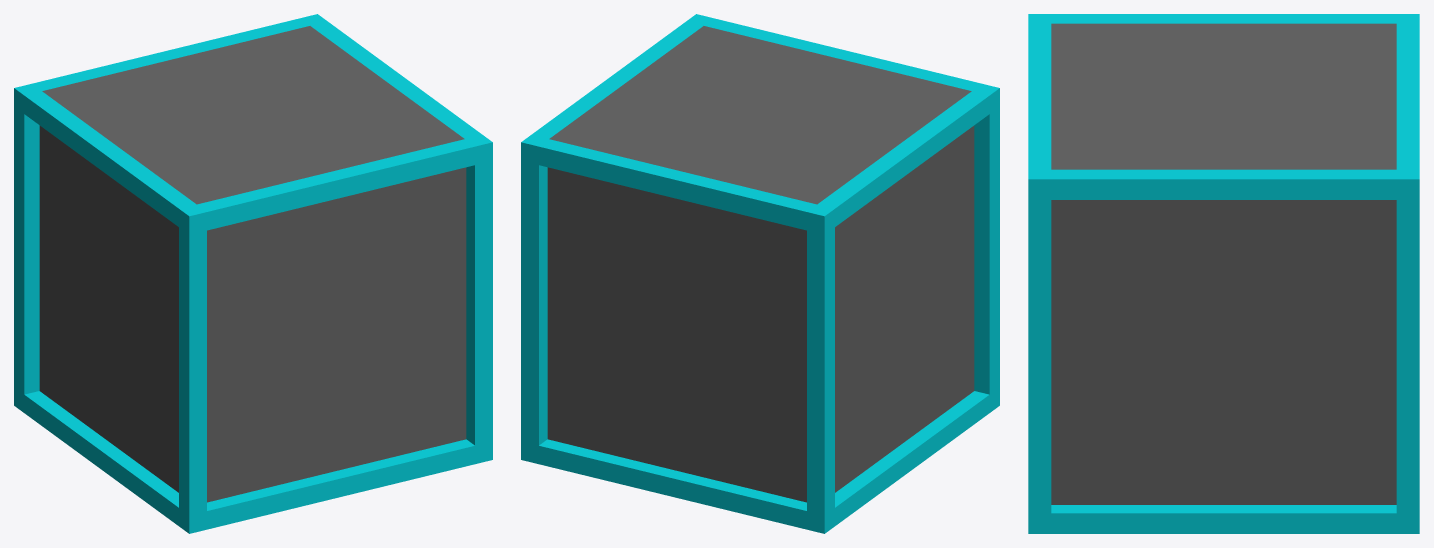
Rendered from Goal_Block.fbx.
3 views of the same model, side by side, from view 1: azimuth 30°, elevation 25°; view 2: azimuth 150°, elevation 25°; view 3: azimuth 270°, elevation 25° (orthographic). The views are drawn at different scales.
Parts seen in each view (by area): view 1: Cube; view 2: Cube; view 3: Cube.
Boxes of the visible parts, left/top/right/bottom form: Cube: left=14, top=14, right=492, bottom=533; Cube: left=521, top=14, right=999, bottom=533; Cube: left=1028, top=14, right=1419, bottom=533.
Size of the model in its own units: 200 by 200 by 200.
